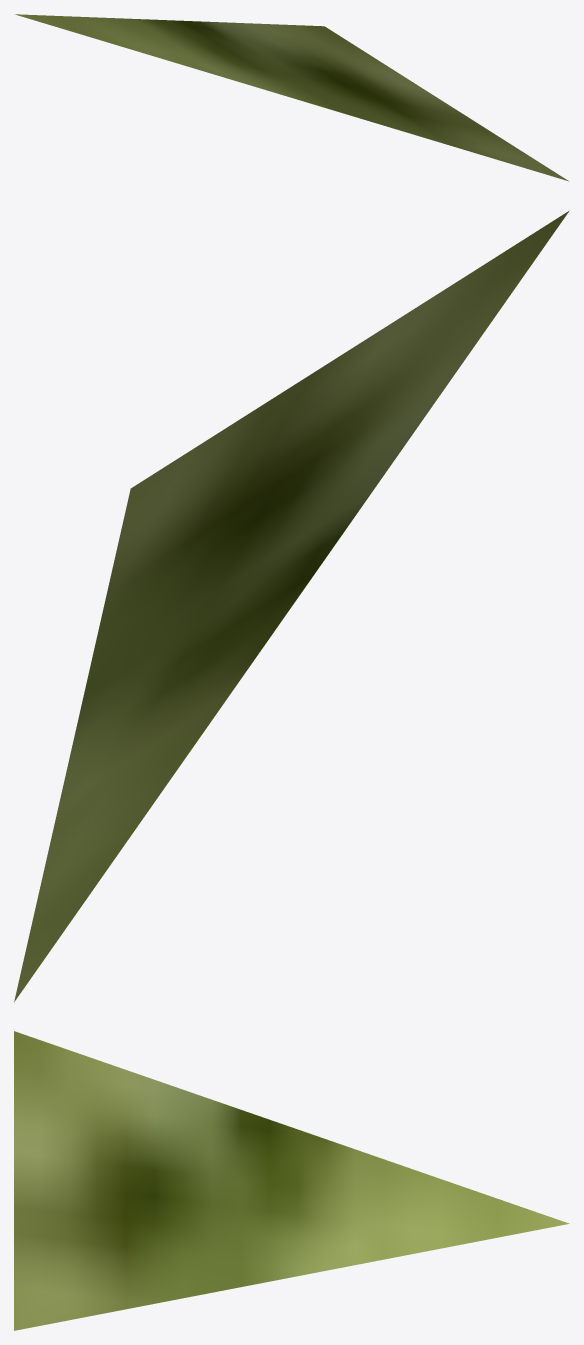
The picture shows the model from 3 angles, top to bottom: view 1: azimuth 30°, elevation 25°; view 2: azimuth 150°, elevation 25°; view 3: azimuth 270°, elevation 25°; orthographic projection. The views are drawn at different scales.
Size of the model in its own units: 0.096 by 0.0805 by 0.2104.
1 material, 1 textured.
